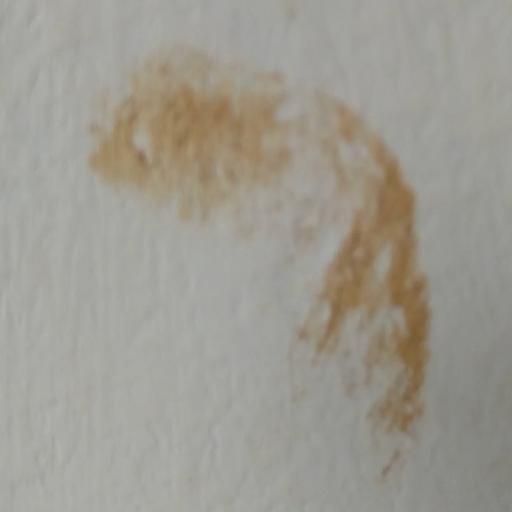stain: (84, 48, 464, 471)
